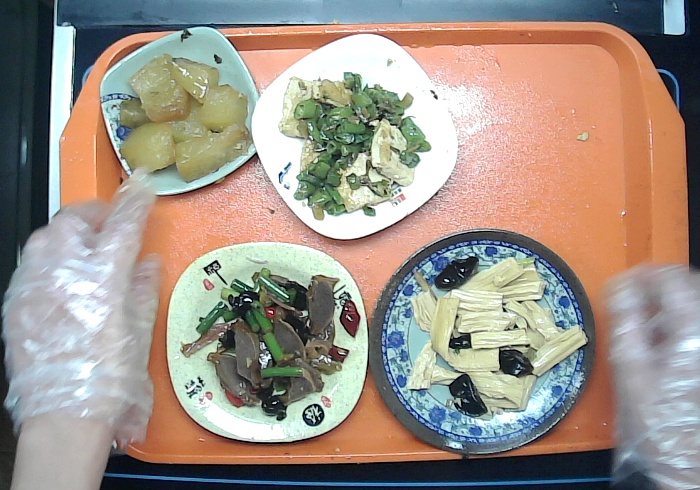NLDX-Bai_Se_Xiao_Fang_Die: (250, 31, 459, 239)
NLDX-Fu_Zi_Fang_Die: (165, 242, 370, 443)
NLDX-Qing_Hua_Xiao_Fang_Die: (98, 26, 258, 194)
NLDX-Qing_Hua_Yuan_Die: (367, 228, 598, 456)
